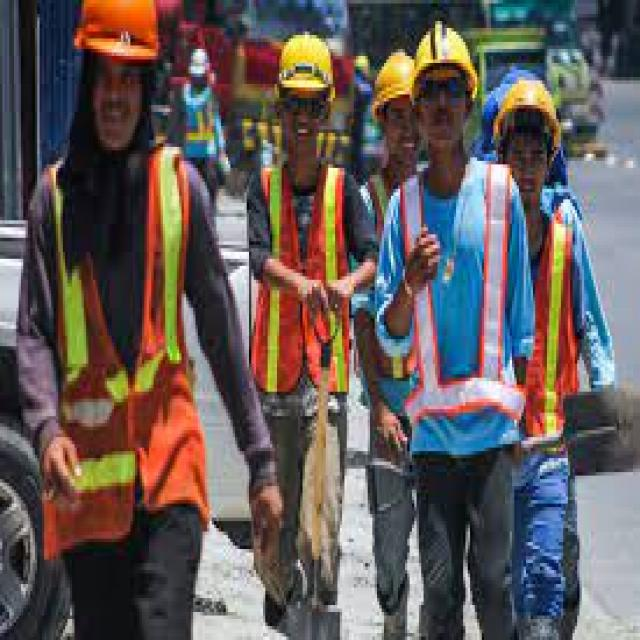Reflective-Jacket: (19, 143, 207, 563), (382, 161, 526, 469), (247, 154, 356, 413), (512, 178, 591, 472)
Safety-Helmet: (70, 0, 167, 77), (486, 63, 570, 147), (270, 28, 340, 105), (408, 18, 480, 88), (368, 46, 417, 122), (184, 42, 216, 87)
